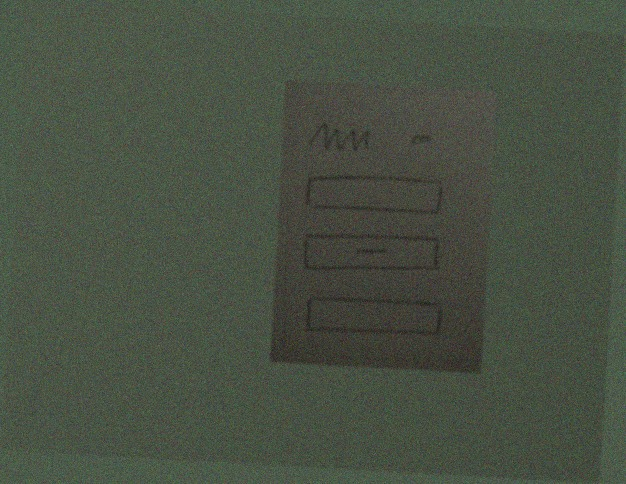button: (297, 228, 446, 278)
switch: (404, 127, 437, 151)
text: (304, 118, 375, 157)
text_input: (302, 290, 448, 342), (302, 170, 448, 221)
